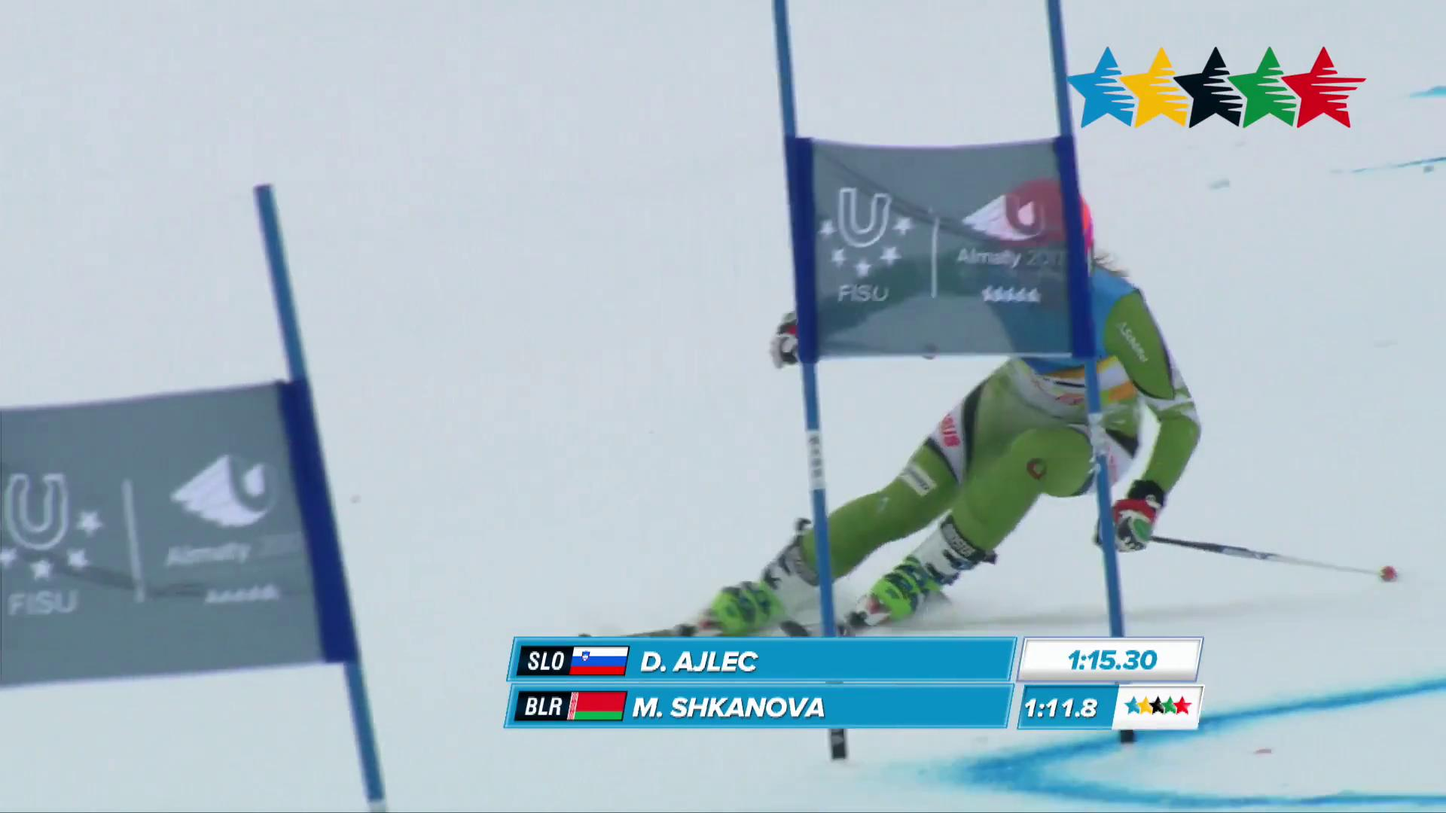gate: (770, 20, 1043, 638), (772, 0, 836, 635), (254, 184, 346, 595), (1045, 0, 1102, 424), (342, 595, 389, 812), (1124, 291, 1185, 407)
